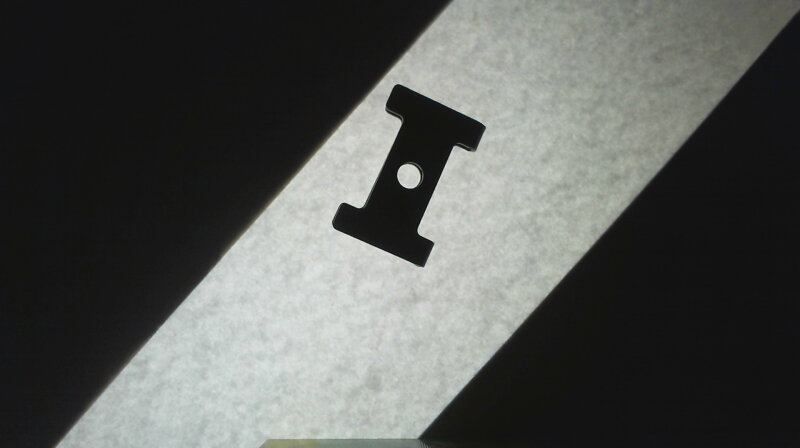O002: (328, 79, 488, 272)
